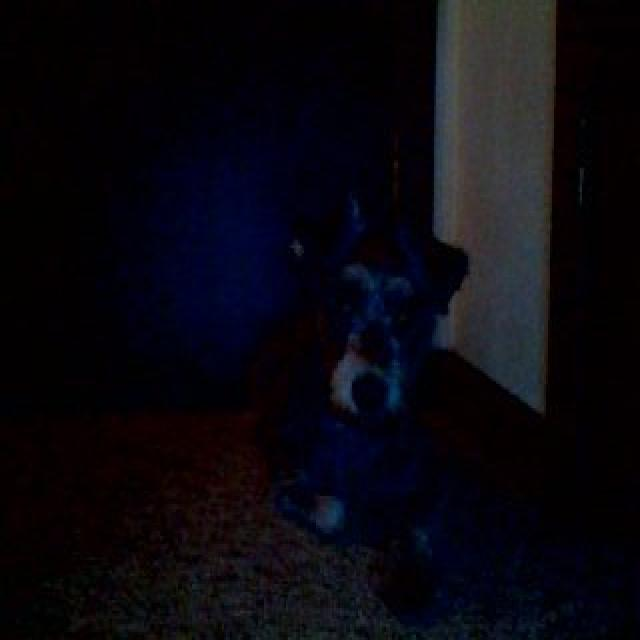Dog: (92, 60, 508, 548)
